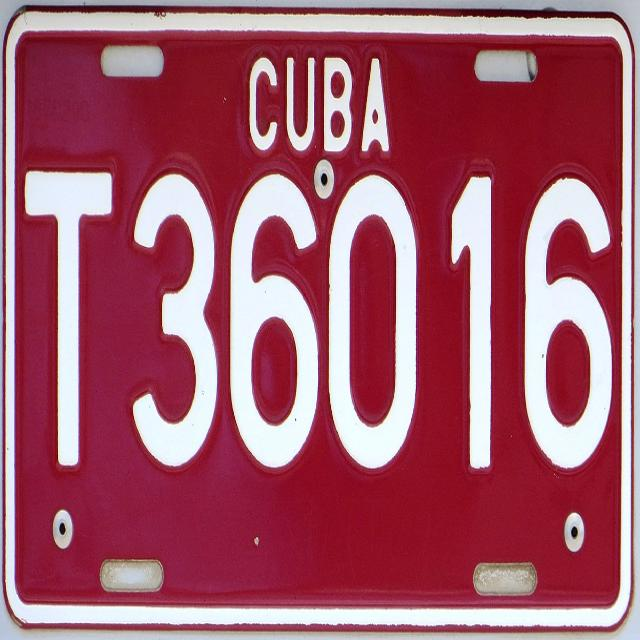placa: (17, 147, 616, 496)
